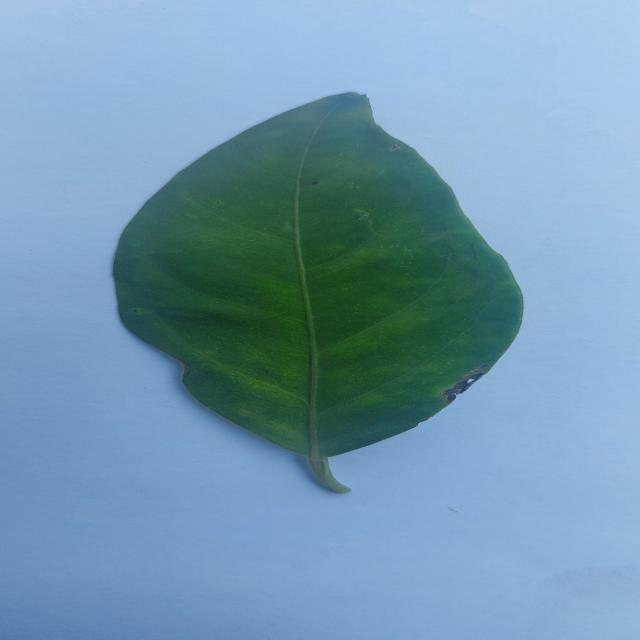greening: (114, 93, 522, 492)
